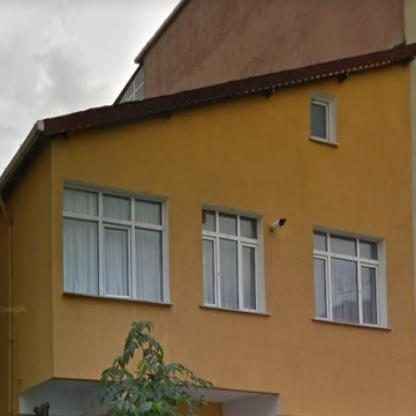window: (66, 190, 163, 298), (315, 231, 379, 324), (203, 212, 257, 309), (117, 67, 143, 104), (311, 100, 328, 139)
